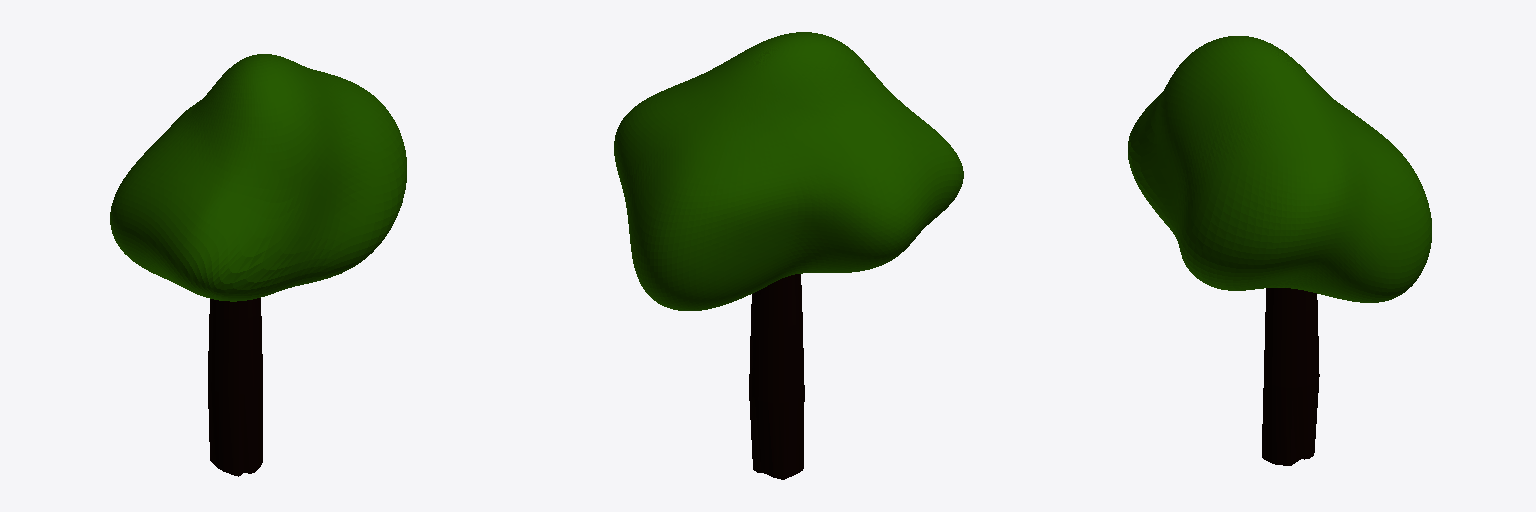
The model's file is tree.obj.
3 views of the same model, side by side, from view 1: azimuth 30°, elevation 25°; view 2: azimuth 150°, elevation 25°; view 3: azimuth 270°, elevation 25° (orthographic).
Parts seen in each view (by area): view 1: Sphere; view 2: Sphere; view 3: Sphere.
Part boxes in pixels (left/top/right/bottom): Sphere: left=110, top=54, right=406, bottom=476; Sphere: left=614, top=32, right=963, bottom=479; Sphere: left=1128, top=36, right=1431, bottom=465.
Size of the model in its own units: 14.27 by 19.99 by 13.18.